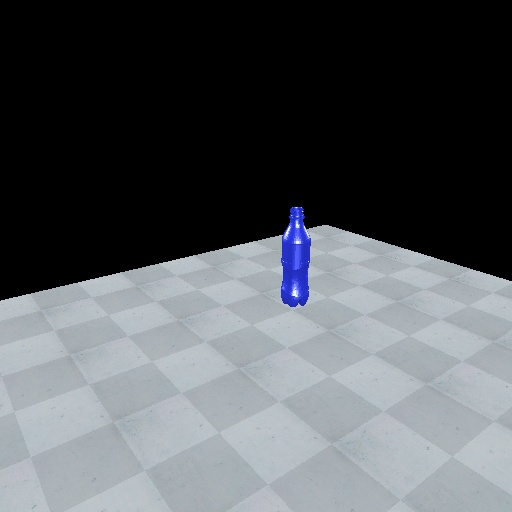bottle: (279, 204, 313, 309)
